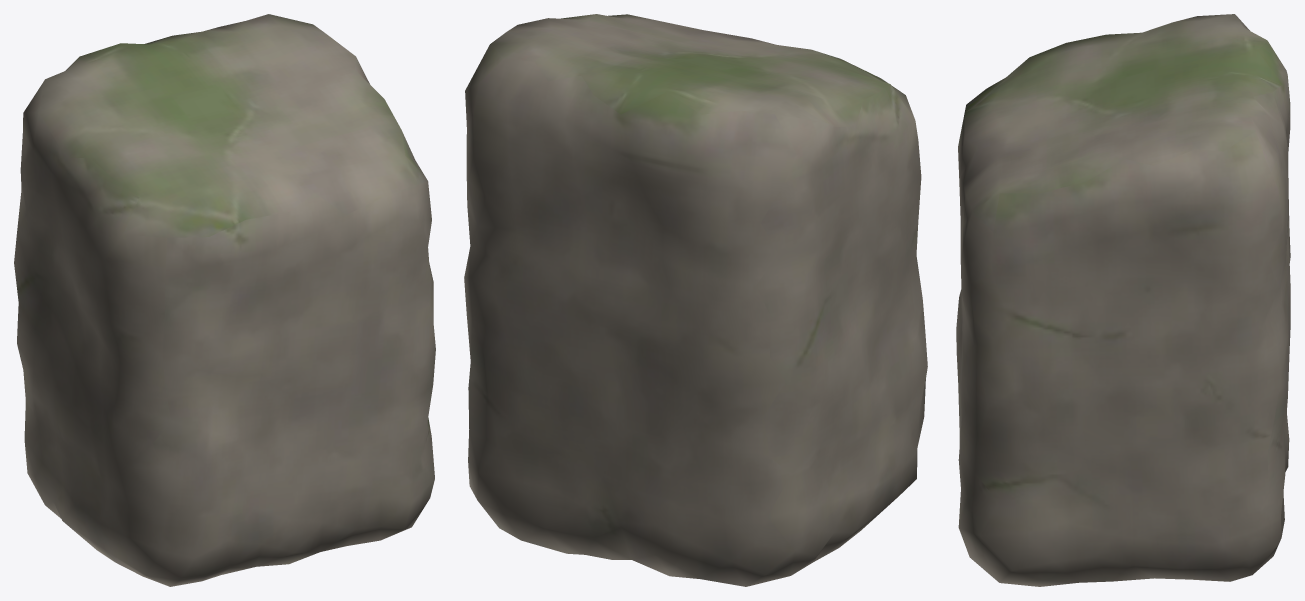
File: rock-boulder-b.glb
3 views of the same model, side by side, from view 1: azimuth 30°, elevation 25°; view 2: azimuth 150°, elevation 25°; view 3: azimuth 270°, elevation 25° (orthographic). The views are drawn at different scales.
Visible parts, largest first — view 1: Rock_Boulder_B; view 2: Rock_Boulder_B; view 3: Rock_Boulder_B.
Boxes of the visible parts, x1,y1,x2,y2 form: Rock_Boulder_B: [14, 14, 435, 586]; Rock_Boulder_B: [464, 14, 927, 586]; Rock_Boulder_B: [956, 14, 1290, 586].
Size of the model in its own units: 1.02 by 1.39 by 0.9197.
Materials: 1 (1 with a texture image).
